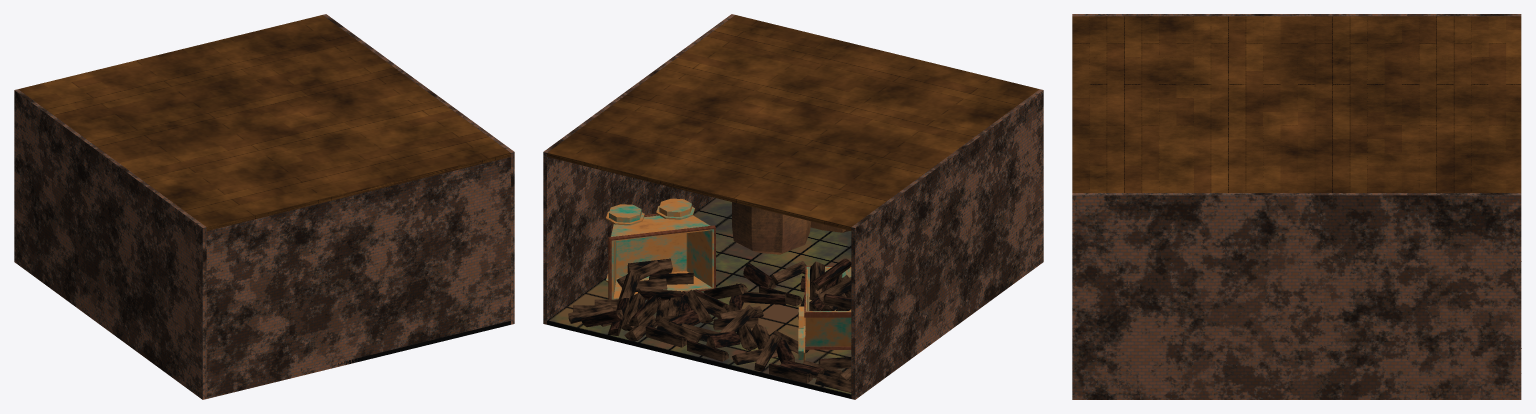
File: GeneratorRoom.fbx
3 renders of one model, left to right at view 1: azimuth 30°, elevation 25°; view 2: azimuth 150°, elevation 25°; view 3: azimuth 270°, elevation 25°, orthographic. The views are drawn at different scales.
Visible parts, largest first — view 1: DirtyCeiling, SideWall1.006, SideWall1.005, SideWall1.001, DirtyGround; view 2: DirtyCeiling, SideWall1.005, SideWall1.001, DirtyGround, Minecart, Generator.001, Cube, CharredWood.022, CharredWood.055, CharredWood.067, CharredWood.018, CharredWood.014 (+5 smaller); view 3: SideWall1.001, DirtyCeiling, SideWall1.005.
Boxes of the visible parts, x1=… form: DirtyCeiling: x1=18, y1=15, x2=510, y2=230; SideWall1.006: x1=206, y1=157, x2=510, y2=398; SideWall1.005: x1=14, y1=89, x2=206, y2=399; SideWall1.001: x1=323, y1=14, x2=514, y2=324; DirtyGround: x1=337, y1=321, x2=510, y2=366; DirtyCeiling: x1=547, y1=15, x2=1039, y2=230; SideWall1.005: x1=851, y1=89, x2=1043, y2=399; SideWall1.001: x1=543, y1=14, x2=734, y2=324; DirtyGround: x1=547, y1=198, x2=851, y2=398; Minecart: x1=606, y1=198, x2=715, y2=299; Generator.001: x1=732, y1=202, x2=849, y2=254; Cube: x1=798, y1=266, x2=851, y2=360; CharredWood.022: x1=741, y1=291, x2=786, y2=305; CharredWood.055: x1=769, y1=363, x2=812, y2=383; CharredWood.067: x1=810, y1=258, x2=851, y2=290; CharredWood.018: x1=657, y1=318, x2=702, y2=342; CharredWood.014: x1=646, y1=326, x2=687, y2=347; SideWall1.001: x1=1072, y1=193, x2=1521, y2=399; DirtyCeiling: x1=1072, y1=16, x2=1521, y2=192; SideWall1.005: x1=1072, y1=14, x2=1521, y2=16.
Bounding box in the file's own units: 517 × 272 × 541.
